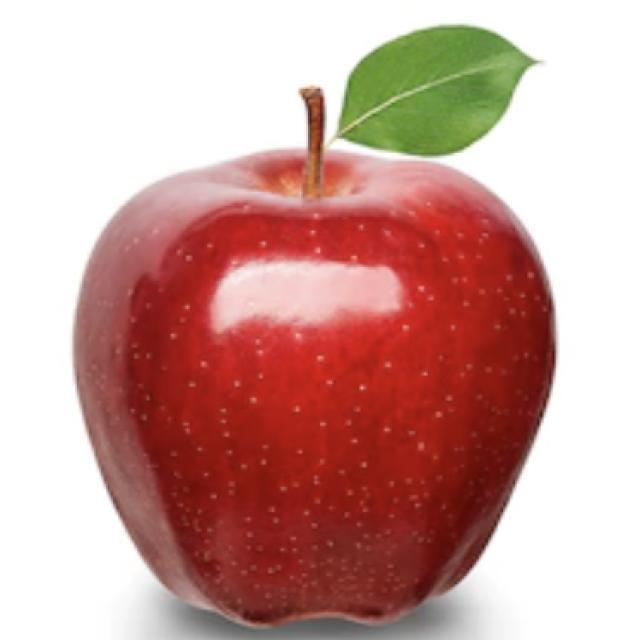Fresh Apple: (82, 150, 550, 617)
